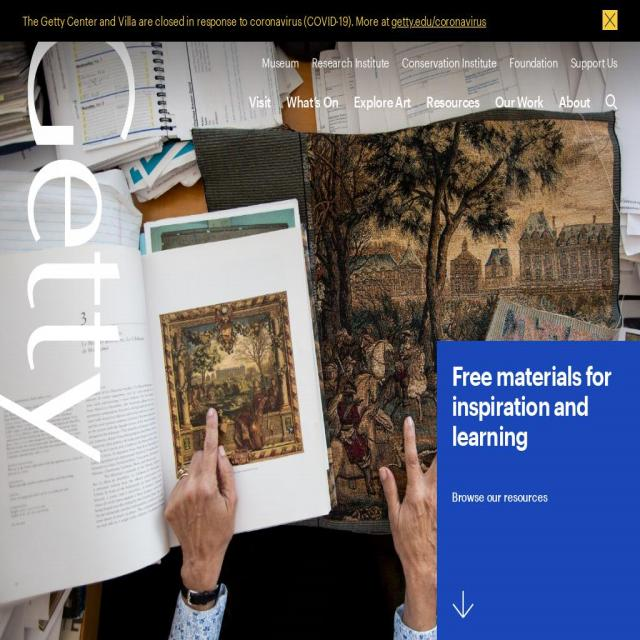navigation-links: (248, 52, 628, 120)
search: (601, 87, 624, 120)
